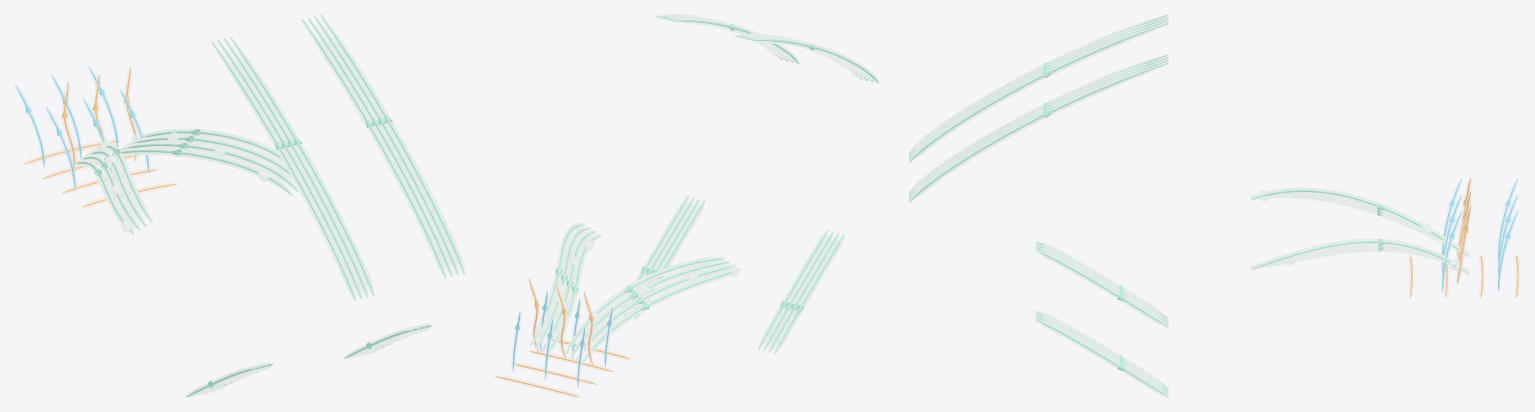
File: cabin-effects.glb
3 views of the same model, side by side, from view 1: azimuth 30°, elevation 25°; view 2: azimuth 150°, elevation 25°; view 3: azimuth 270°, elevation 25° (orthographic). The views are drawn at different scales.
Parts seen in each view (by area): view 1: afterglow_heat_driver, afterglow_vent_driver, afterglow_airflow_defrost_cool_0, afterglow_airflow_defrost_cool_2, afterglow_airflow_defrost_cool_3, afterglow_airflow_defrost_cool_5, afterglow_airflow_defrost_cool_4, afterglow_airflow_defrost_cool_1, afterglow_airflow_defrost_cool_6, afterglow_airflow_defrost_cool_7, afterglow_airflow_defrost_warm_2, afterglow_airflow_defrost_warm_5 (+11 smaller); view 2: afterglow_heat_driver, afterglow_vent_driver, afterglow_airflow_cool_6, afterglow_airflow_cool_0, afterglow_airflow_cool_4, afterglow_airflow_cool_2, afterglow_airflow_floor_cool_0, afterglow_airflow_floor_cool_4, afterglow_airflow_floor_cool_6, afterglow_airflow_floor_cool_2, afterglow_airflow_defrost_cool_0, afterglow_airflow_warm_6; view 3: afterglow_vent_driver, afterglow_heat_driver, afterglow_airflow_defrost_cool_7, afterglow_airflow_defrost_cool_6, afterglow_airflow_defrost_warm_6, afterglow_airflow_defrost_warm_7, afterglow_airflow_cool_7, afterglow_airflow_cool_6.
Boxes of the visible parts, bbox=[...] form: afterglow_heat_driver: bbox=[23, 66, 177, 207]; afterglow_vent_driver: bbox=[15, 66, 148, 189]; afterglow_airflow_defrost_cool_0: bbox=[211, 41, 355, 300]; afterglow_airflow_defrost_cool_2: bbox=[217, 40, 361, 298]; afterglow_airflow_defrost_cool_3: bbox=[308, 18, 452, 276]; afterglow_airflow_defrost_cool_5: bbox=[314, 16, 458, 275]; afterglow_airflow_defrost_cool_4: bbox=[224, 38, 367, 297]; afterglow_airflow_defrost_cool_1: bbox=[302, 19, 445, 278]; afterglow_airflow_defrost_cool_6: bbox=[230, 37, 374, 295]; afterglow_airflow_defrost_cool_7: bbox=[320, 15, 464, 273]; afterglow_airflow_defrost_warm_2: bbox=[218, 40, 361, 298]; afterglow_airflow_defrost_warm_5: bbox=[315, 17, 458, 274]; afterglow_heat_driver: bbox=[494, 278, 630, 397]; afterglow_vent_driver: bbox=[512, 291, 612, 386]; afterglow_airflow_cool_6: bbox=[565, 258, 723, 354]; afterglow_airflow_cool_0: bbox=[581, 268, 740, 363]; afterglow_airflow_cool_4: bbox=[571, 262, 729, 357]; afterglow_airflow_cool_2: bbox=[576, 265, 734, 360]; afterglow_airflow_floor_cool_0: bbox=[774, 234, 844, 353]; afterglow_airflow_floor_cool_4: bbox=[763, 231, 833, 350]; afterglow_airflow_floor_cool_6: bbox=[758, 230, 827, 349]; afterglow_airflow_floor_cool_2: bbox=[769, 233, 838, 352]; afterglow_airflow_defrost_cool_0: bbox=[752, 39, 878, 83]; afterglow_airflow_warm_6: bbox=[565, 259, 721, 353]; afterglow_vent_driver: bbox=[1441, 179, 1517, 291]; afterglow_heat_driver: bbox=[1410, 177, 1518, 298]; afterglow_airflow_defrost_cool_7: bbox=[909, 63, 1168, 201]; afterglow_airflow_defrost_cool_6: bbox=[909, 23, 1168, 162]; afterglow_airflow_defrost_warm_6: bbox=[909, 23, 1167, 161]; afterglow_airflow_defrost_warm_7: bbox=[909, 63, 1167, 201]; afterglow_airflow_cool_7: bbox=[1251, 239, 1468, 274]; afterglow_airflow_cool_6: bbox=[1251, 190, 1468, 256].
Bounding box in the file's own units: 0.6781 × 1.19 × 2.08.
